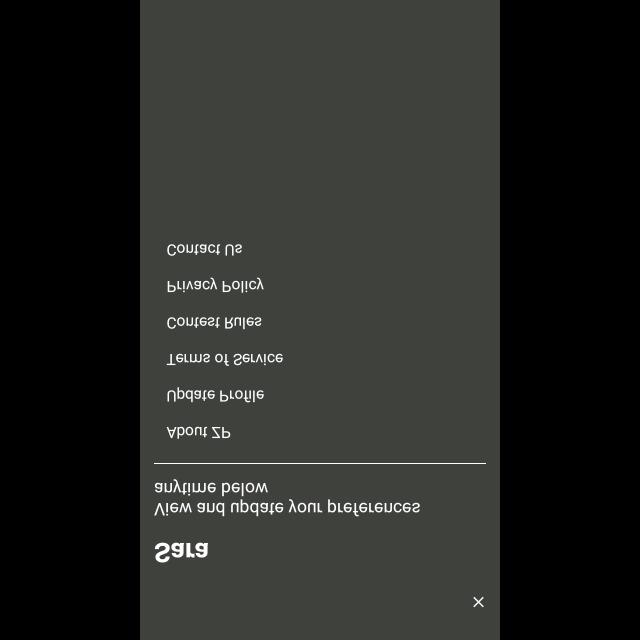icon: (472, 596, 483, 608)
text: (155, 479, 421, 517), (168, 277, 264, 293), (168, 386, 264, 402), (166, 354, 284, 366), (166, 316, 262, 329), (155, 542, 209, 562), (168, 244, 242, 256), (166, 426, 232, 438)
